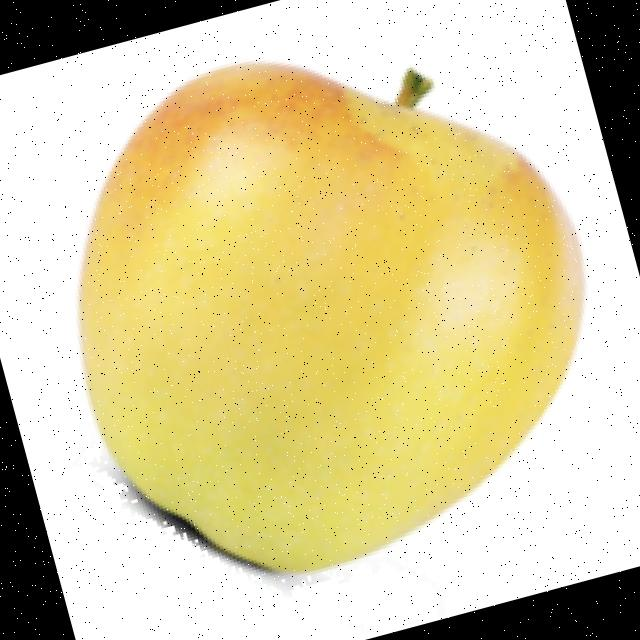apple: (73, 55, 590, 598)
